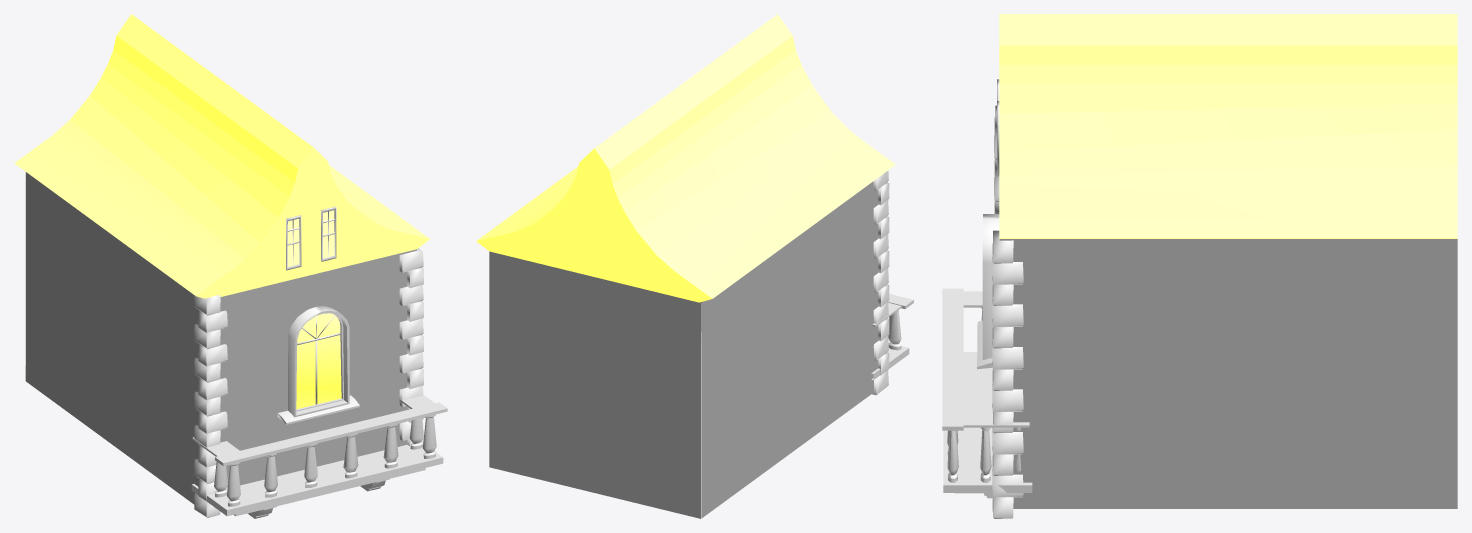
File: side piece 01 opt.fbx
3 renders of one model, left to right at view 1: azimuth 30°, elevation 25°; view 2: azimuth 150°, elevation 25°; view 3: azimuth 270°, elevation 25°, orthographic. The views are drawn at different scales.
Parts seen in each view (by area): view 1: Meshes; view 2: Meshes; view 3: Meshes.
Part boxes in pixels (<box>): Meshes: <box>14,14,447,518</box>; Meshes: <box>476,14,913,518</box>; Meshes: <box>942,14,1457,518</box>.
Size of the model in its own units: 447 by 644 by 675.
